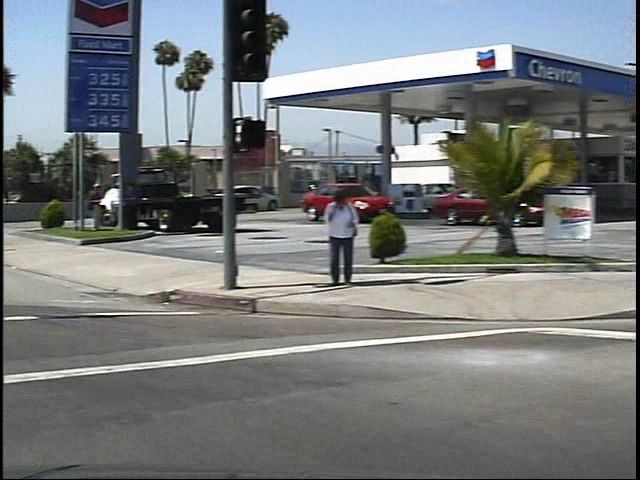person: (311, 186, 351, 289), (78, 179, 99, 235)
